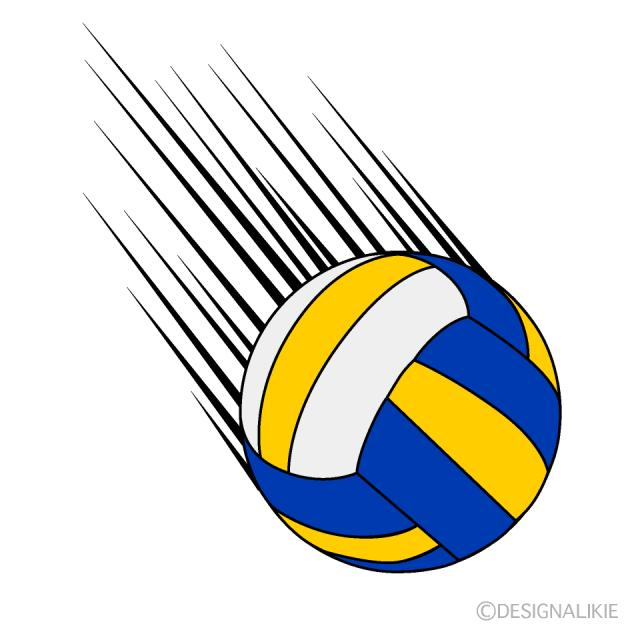Volleyball: (240, 250, 564, 574)
